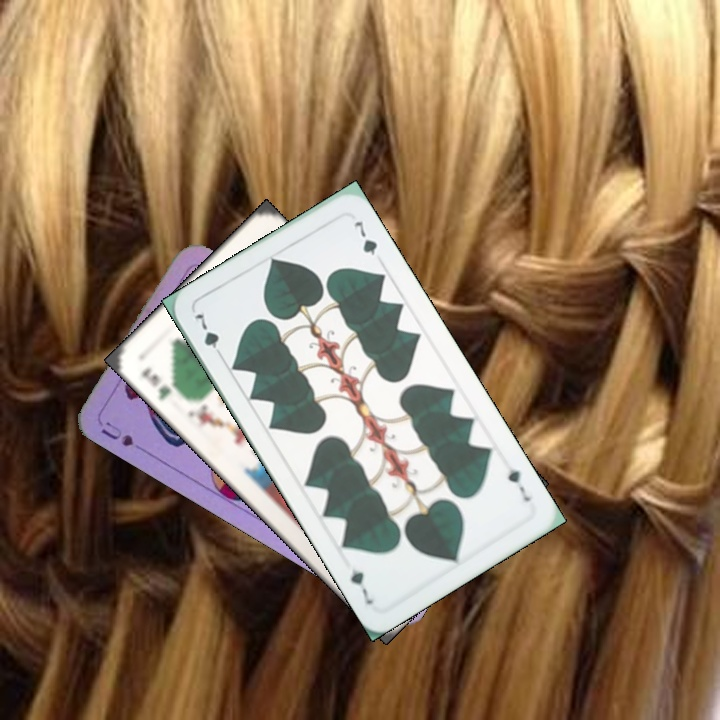G7: (187, 309, 227, 362), (504, 464, 533, 505)
GK: (137, 363, 174, 404)
SU: (96, 417, 152, 457)
